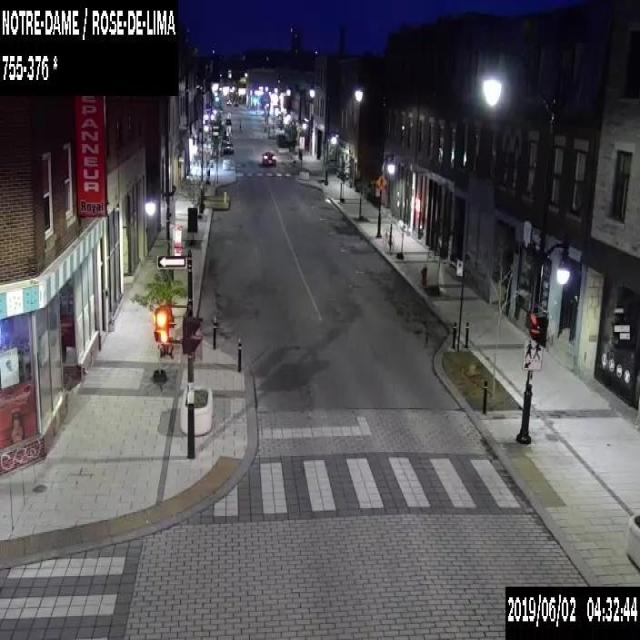vehicle: (261, 150, 276, 165), (222, 140, 233, 154), (224, 118, 231, 124), (226, 98, 231, 104), (232, 100, 238, 105)
